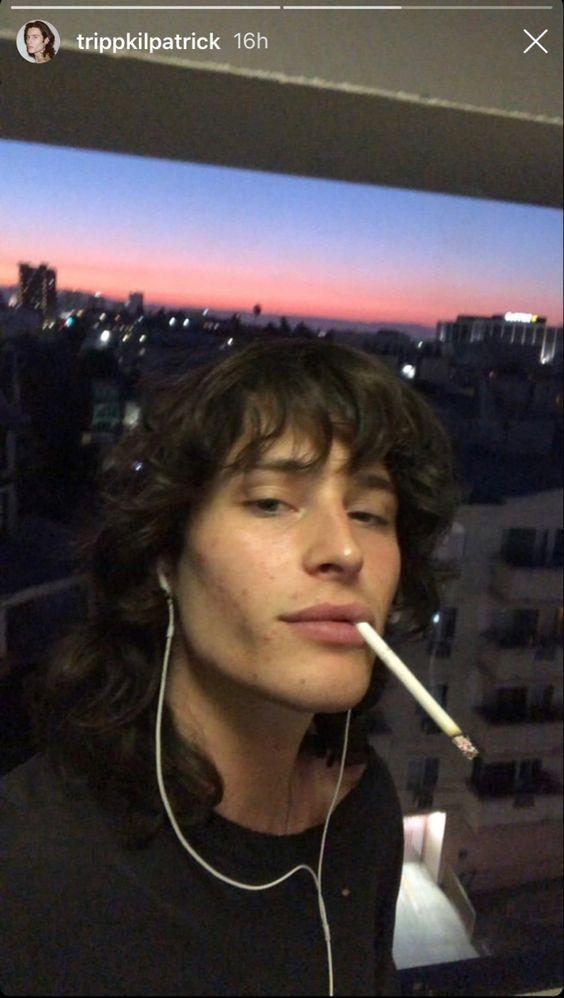cigarette: (355, 621, 481, 762)
